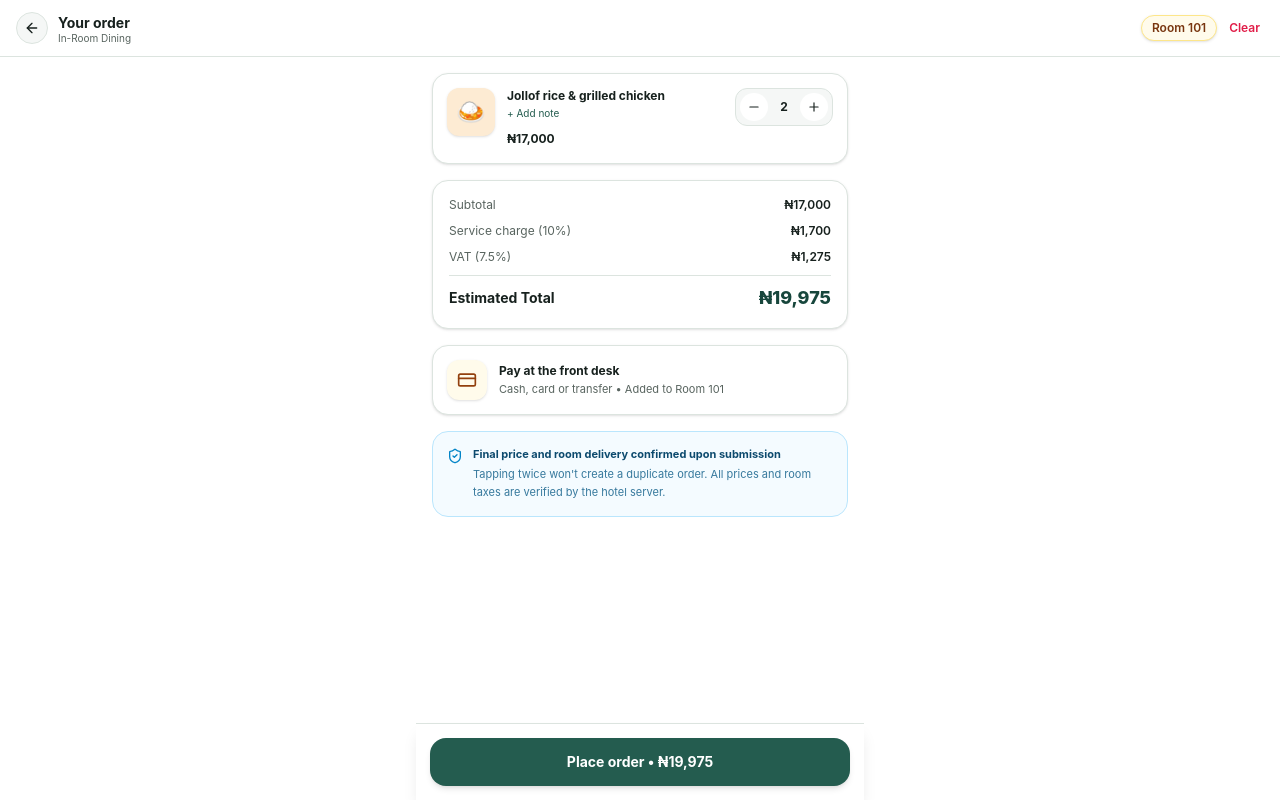
Test: CartPage Component Suite › increments, decrements, and deletes cart line items via inline steppers
Note: Increment from 2 to 3
Click the button named "increase quantity of jollof rice & grilled chicken" at (814, 107), box [800,93,828,121]
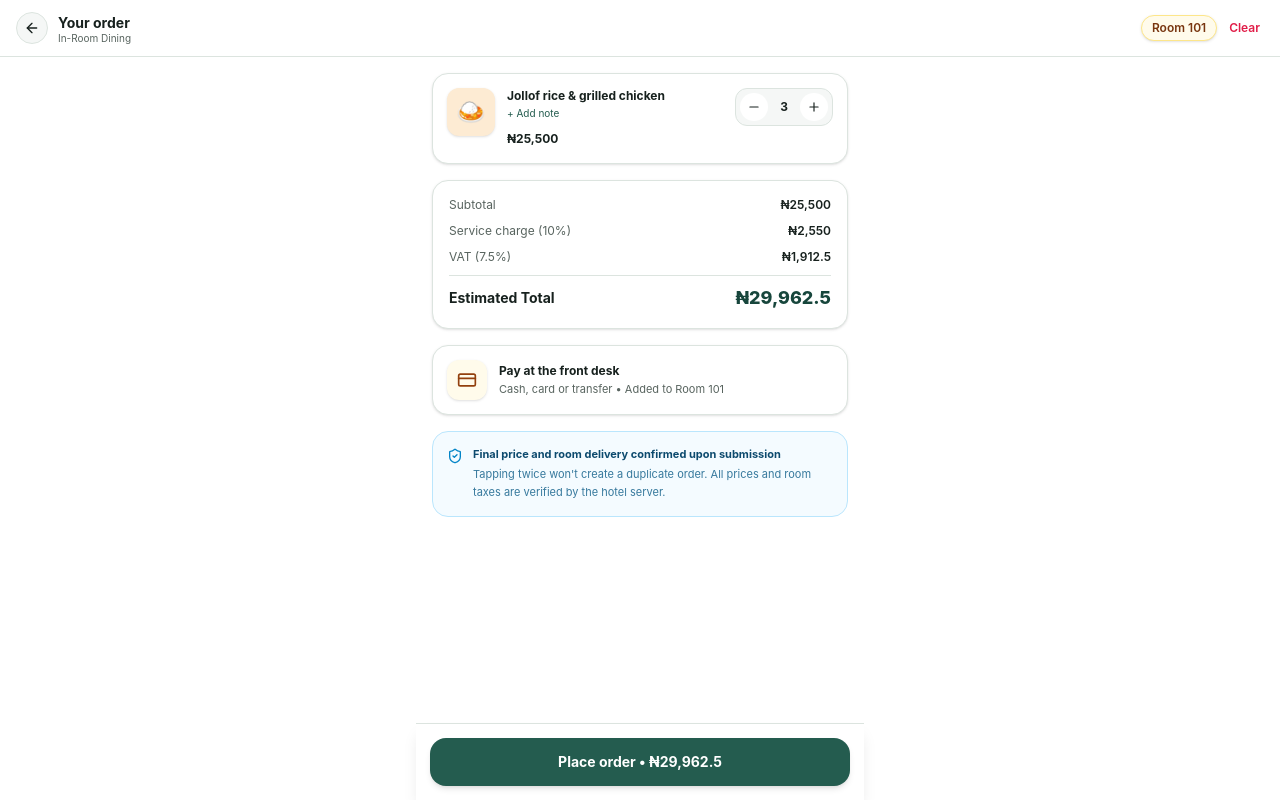
Note: Decrement from 3 to 2
Click the button named "decrease quantity of jollof rice & grilled chicken" at (754, 107), box [740,93,768,121]
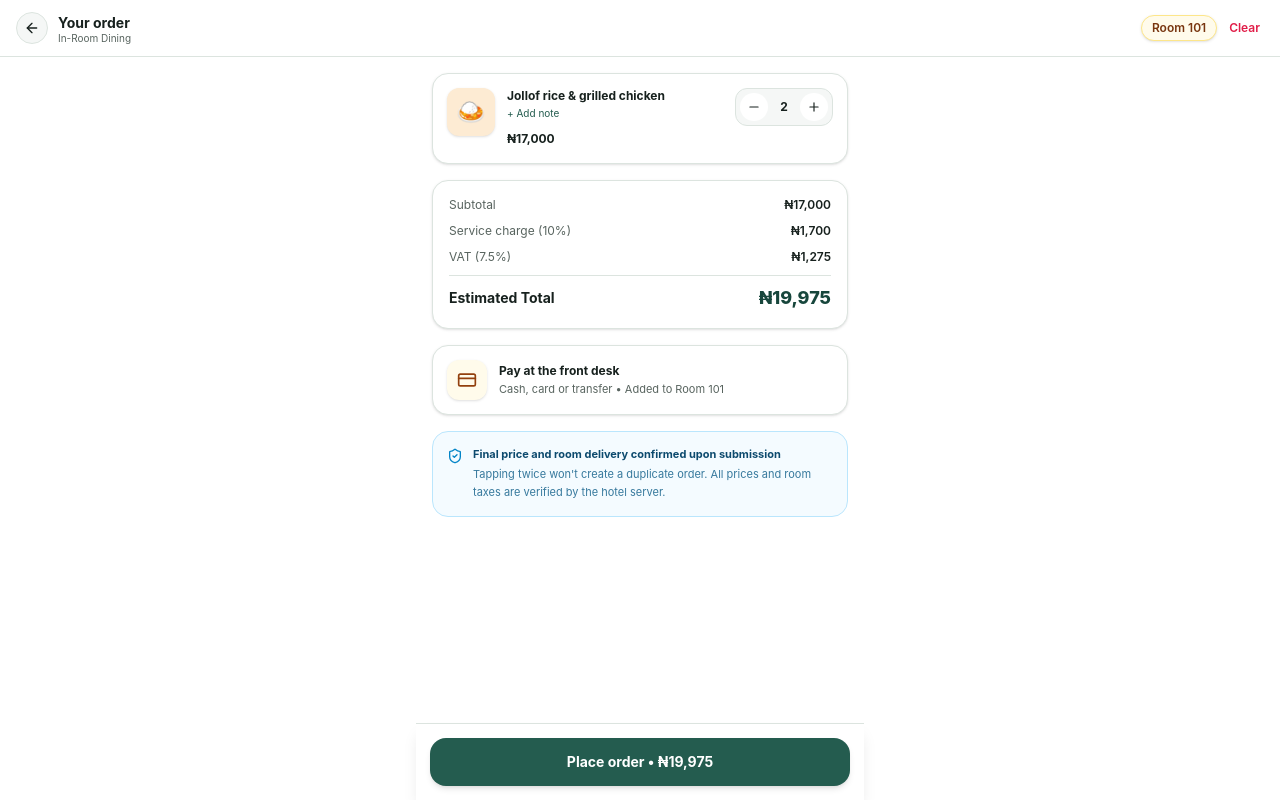
Note: Decrement from 2 to 1
Click the button named "decrease quantity of jollof rice & grilled chicken" at (754, 107), box [740,93,768,121]
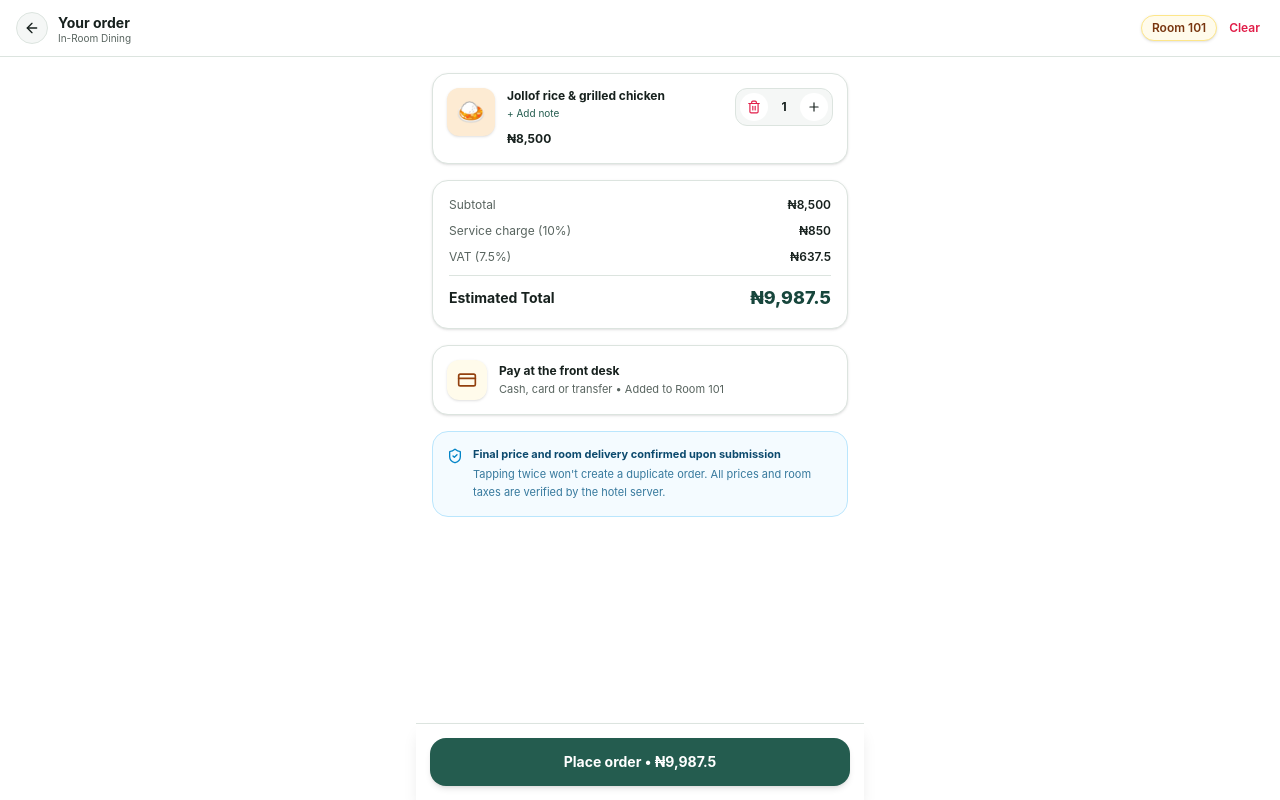
Note: Decrement from 1 to 0 (auto-removal)
Click the button named "decrease quantity of jollof rice & grilled chicken" at (754, 107), box [740,93,768,121]
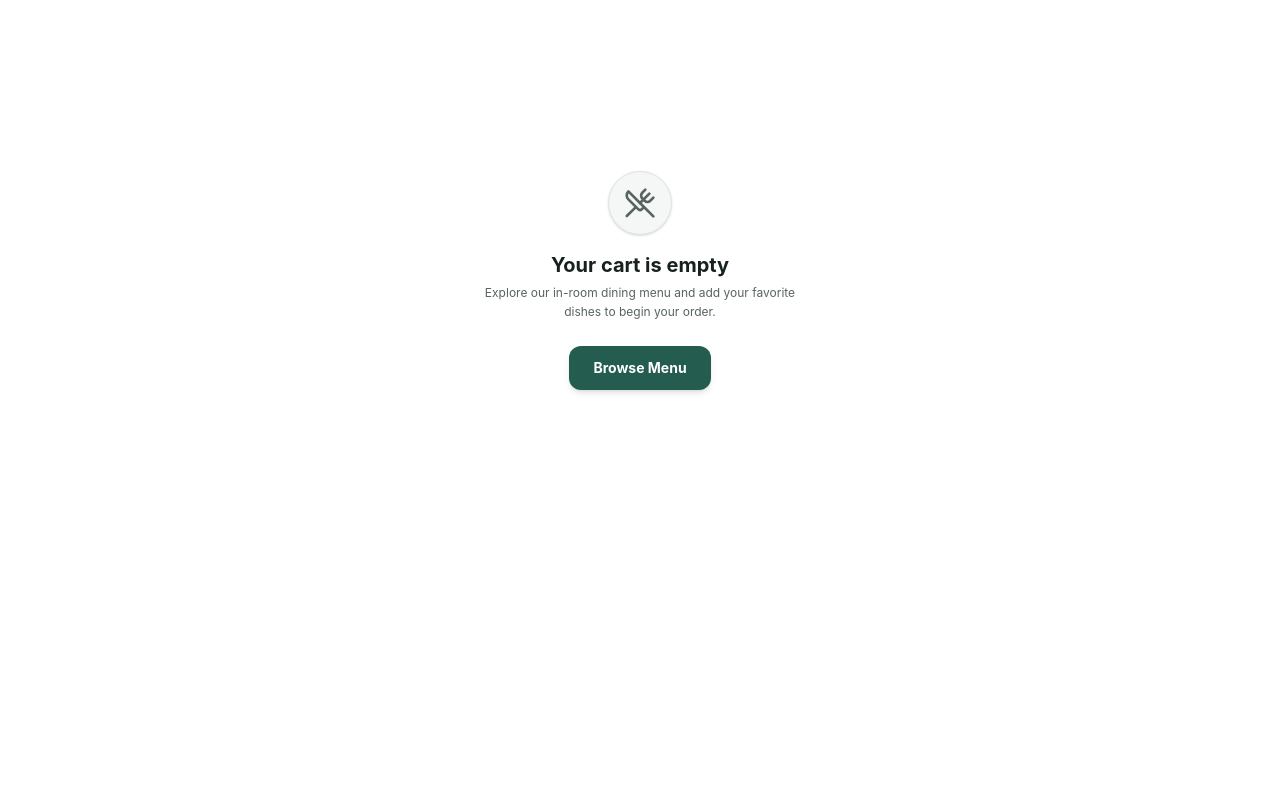
Now the element with test id "cart-empty-view" is shown, box [485,170,795,390]
